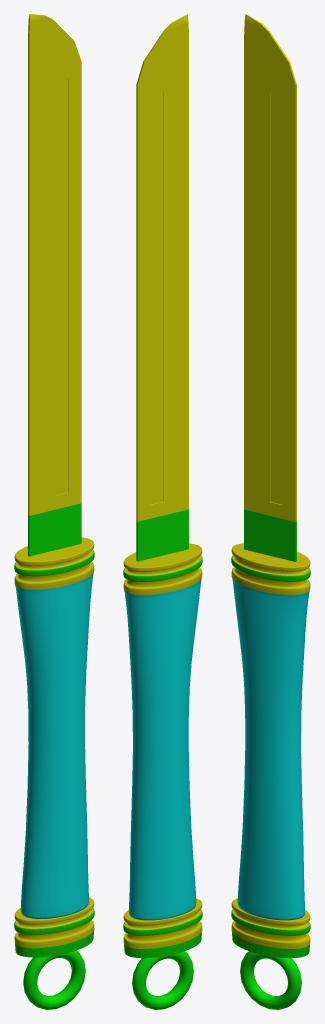
The model's file is AOS_Sword_V1.fbx.
3 views of the same model, side by side, from view 1: azimuth 30°, elevation 25°; view 2: azimuth 210°, elevation 25°; view 3: azimuth 330°, elevation 25° (orthographic).
Visible parts, largest first — view 1: pTorus3; view 2: pTorus3; view 3: pTorus3.
Part boxes in pixels (bbox=[...]): pTorus3: bbox=[14, 14, 94, 1009]; pTorus3: bbox=[123, 14, 202, 1009]; pTorus3: bbox=[231, 14, 310, 1009].
Size of the model in its own units: 0.5041 by 6.27 by 0.2642.
